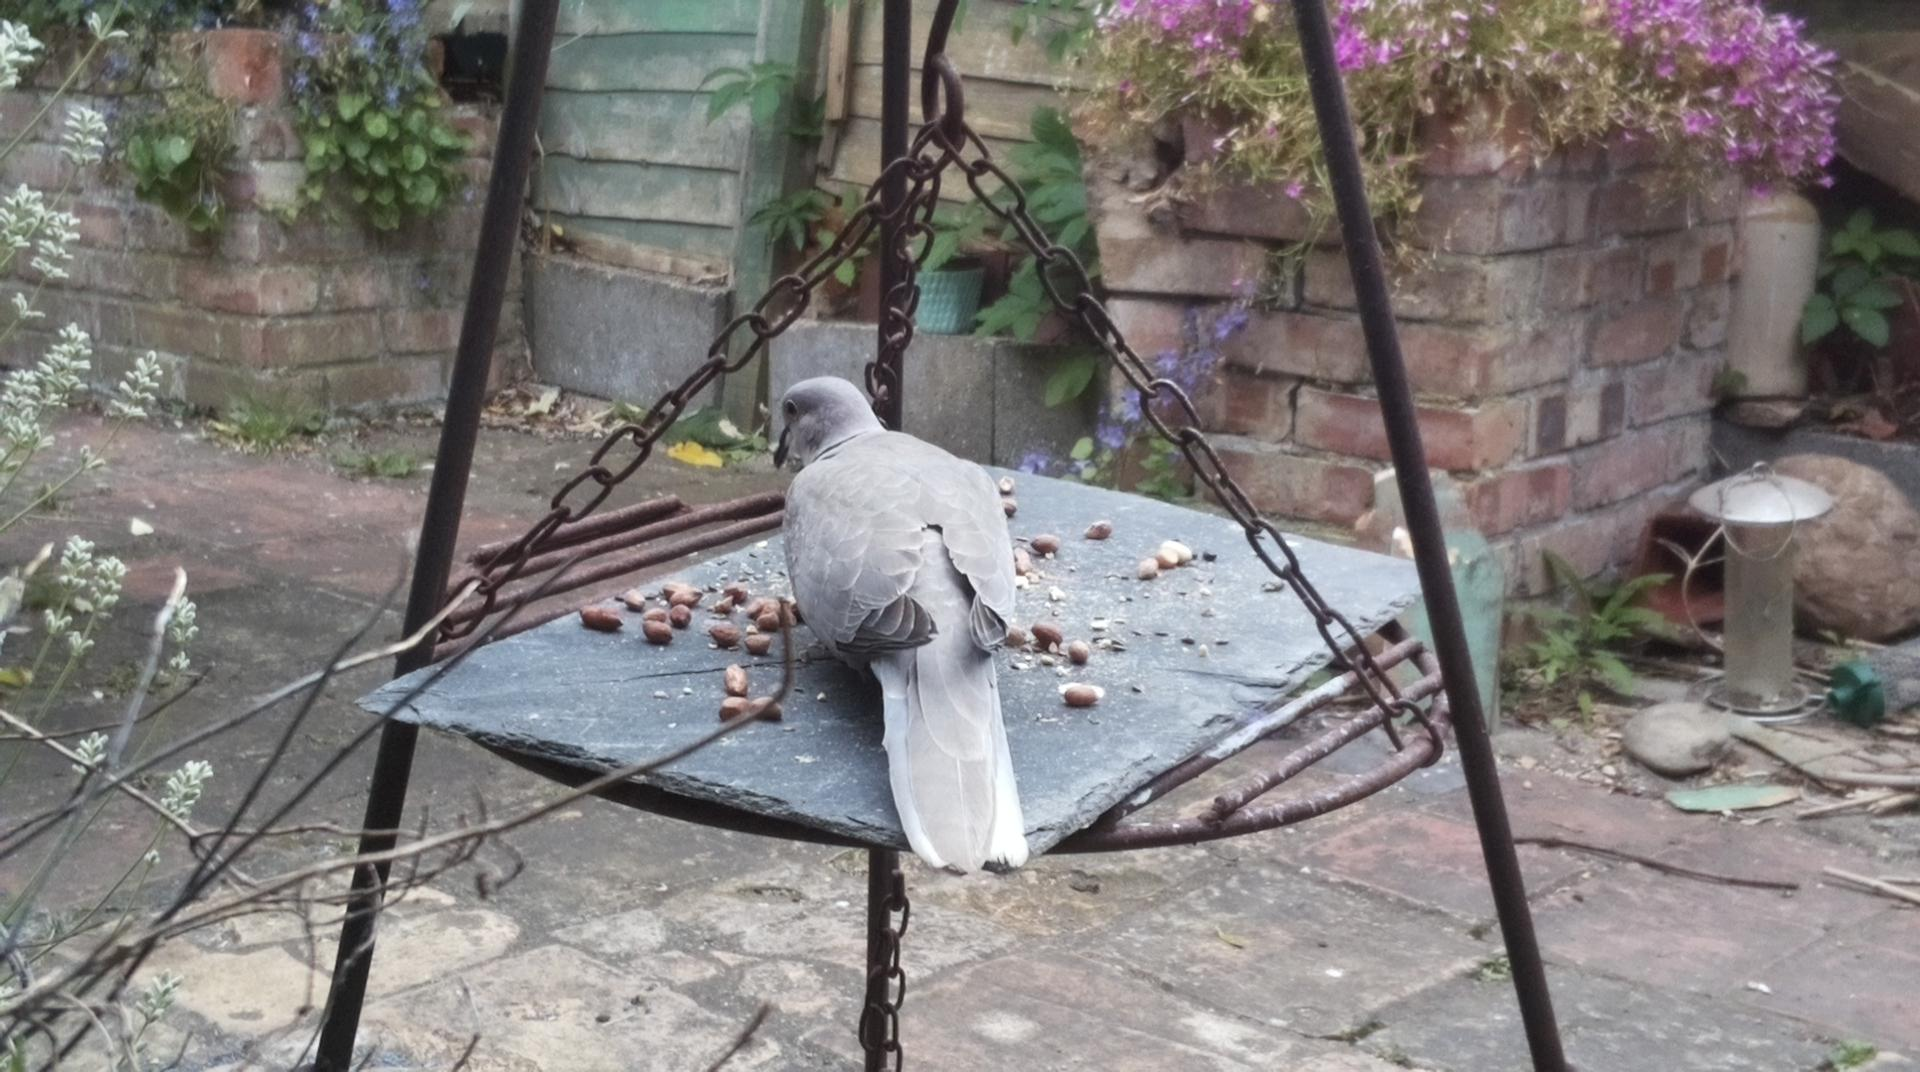collared dove: (771, 376, 1029, 876)
